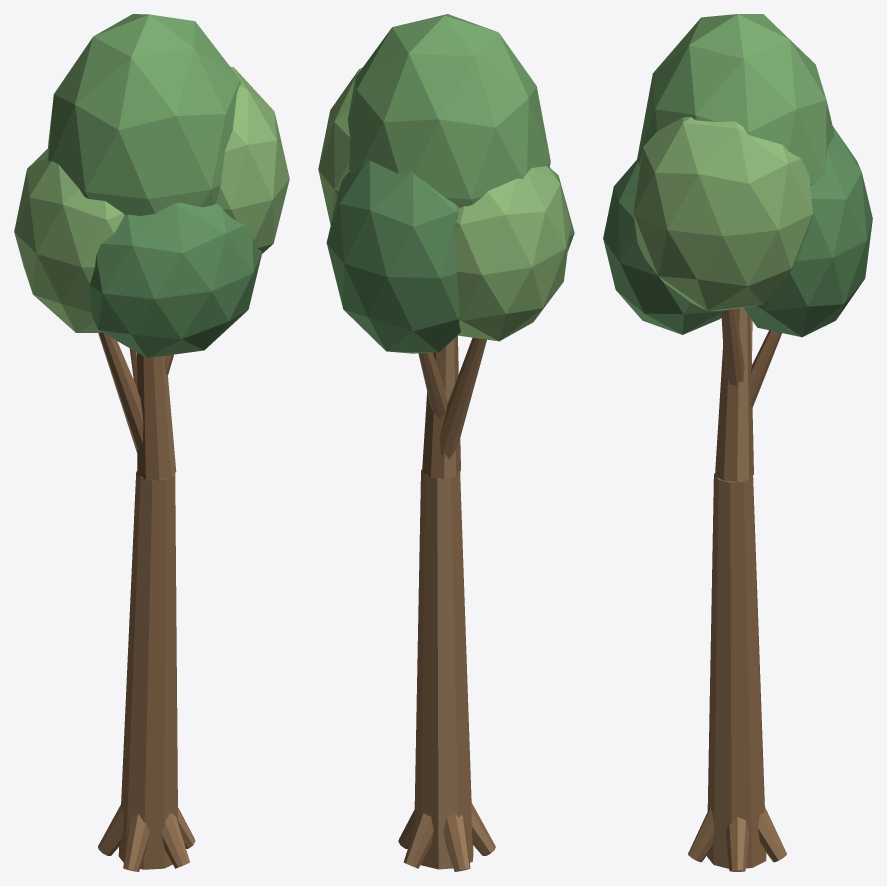
The model's file is broadleaf.glb.
The picture shows the model from 3 angles, left to right: view 1: azimuth 30°, elevation 25°; view 2: azimuth 150°, elevation 25°; view 3: azimuth 270°, elevation 25°; orthographic projection.
Visible parts, largest first — view 1: CreationColorMesh, Foliage_Dark_front, Trunk_lower, Foliage_Light_left, Foliage_Light_right, Trunk_upper, Branch_left, Root_flare_03, Root_flare_04, Root_flare_02; view 2: CreationColorMesh, Foliage_Dark_back, Trunk_lower, Foliage_Light_left, Foliage_Light_right, Trunk_upper, Branch_left, Root_flare_02, Branch_back, Root_flare_01, Root_flare_03; view 3: Foliage_Light_right, CreationColorMesh, Trunk_lower, Foliage_Dark_back, Foliage_Dark_front, Trunk_upper, Branch_right, Root_flare_00, Branch_back, Root_flare_01, Root_flare_04.
Part boxes in pixels (<box>): CreationColorMesh: <box>48,14,240,215</box>; Foliage_Dark_front: <box>89,202,262,357</box>; Trunk_lower: <box>118,471,177,869</box>; Foliage_Light_left: <box>14,148,124,332</box>; Foliage_Light_right: <box>216,66,289,253</box>; Trunk_upper: <box>137,352,176,480</box>; Branch_left: <box>98,332,143,452</box>; Root_flare_03: <box>123,813,149,871</box>; Root_flare_04: <box>161,813,189,868</box>; Root_flare_02: <box>98,805,123,855</box>; CreationColorMesh: <box>347,14,550,208</box>; Foliage_Dark_back: <box>326,160,460,353</box>; Trunk_lower: <box>414,469,473,869</box>; Foliage_Light_left: <box>454,166,570,341</box>; Foliage_Light_right: <box>318,68,361,224</box>; Trunk_upper: <box>422,335,460,478</box>; Branch_left: <box>439,337,486,459</box>; Root_flare_02: <box>443,814,470,871</box>; Branch_back: <box>418,353,447,418</box>; Root_flare_01: <box>403,813,433,868</box>; Root_flare_03: <box>471,802,495,855</box>; Foliage_Light_right: <box>633,117,812,310</box>; CreationColorMesh: <box>637,14,834,185</box>; Trunk_lower: <box>707,473,766,868</box>; Foliage_Dark_back: <box>744,126,872,337</box>; Foliage_Dark_front: <box>603,160,723,334</box>; Trunk_upper: <box>715,307,753,481</box>; Branch_right: <box>721,308,744,385</box>; Root_flare_00: <box>725,817,749,871</box>; Branch_back: <box>749,330,781,407</box>; Root_flare_01: <box>758,806,786,862</box>; Root_flare_04: <box>688,808,714,862</box>.
Bounding box in the file's own units: 1.15 × 3.94 × 1.14.
